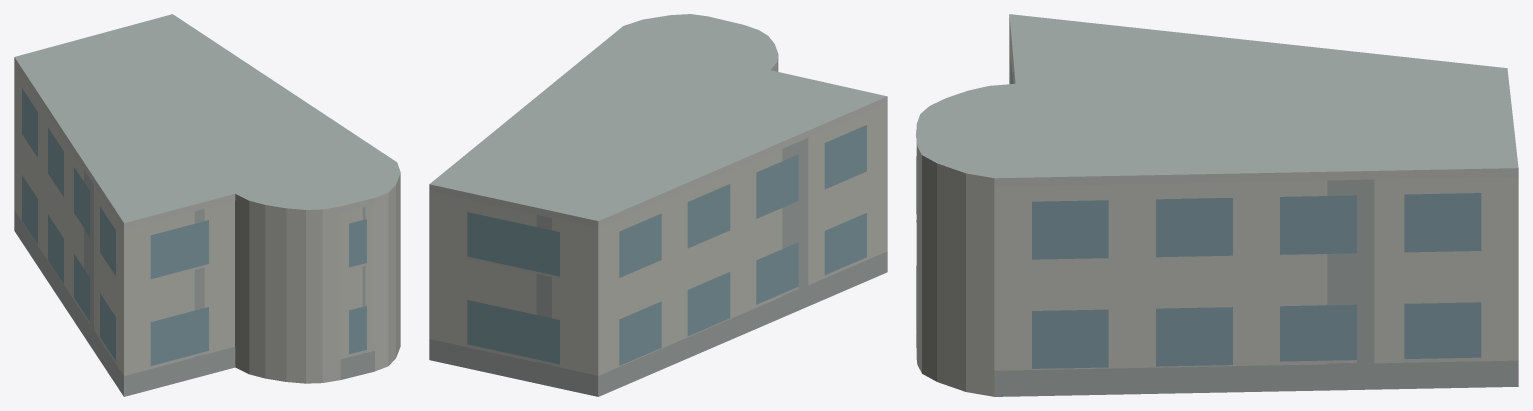
The model's file is survey-upis-32706001.glb.
3 renders of one model, left to right at view 1: azimuth 30°, elevation 25°; view 2: azimuth 150°, elevation 25°; view 3: azimuth 270°, elevation 25°, orthographic. The views are drawn at different scales.
Parts seen in each view (by area): view 1: survey-upis-32706001.tmp; view 2: survey-upis-32706001.tmp; view 3: survey-upis-32706001.tmp.
Boxes of the visible parts, left/top/right/bottom form: survey-upis-32706001.tmp: left=14, top=14, right=400, bottom=396; survey-upis-32706001.tmp: left=429, top=14, right=887, bottom=396; survey-upis-32706001.tmp: left=916, top=14, right=1518, bottom=396.
Bounding box in the file's own units: 9.83 × 6.1 × 15.24.
